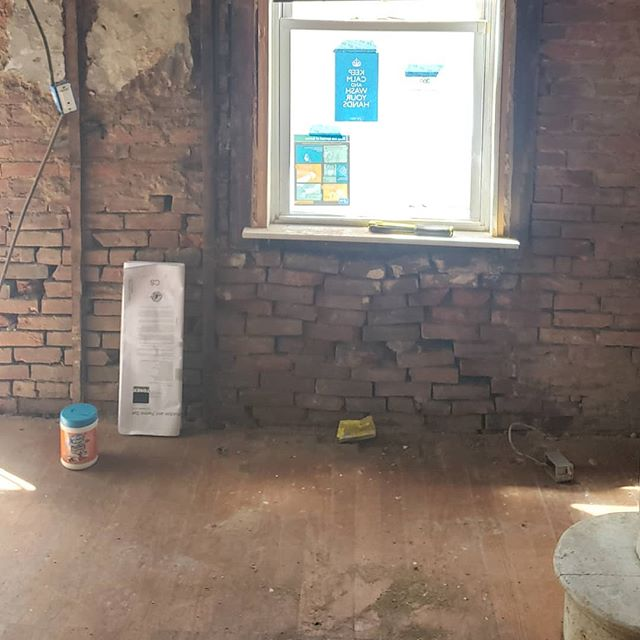window: (262, 1, 509, 246)
